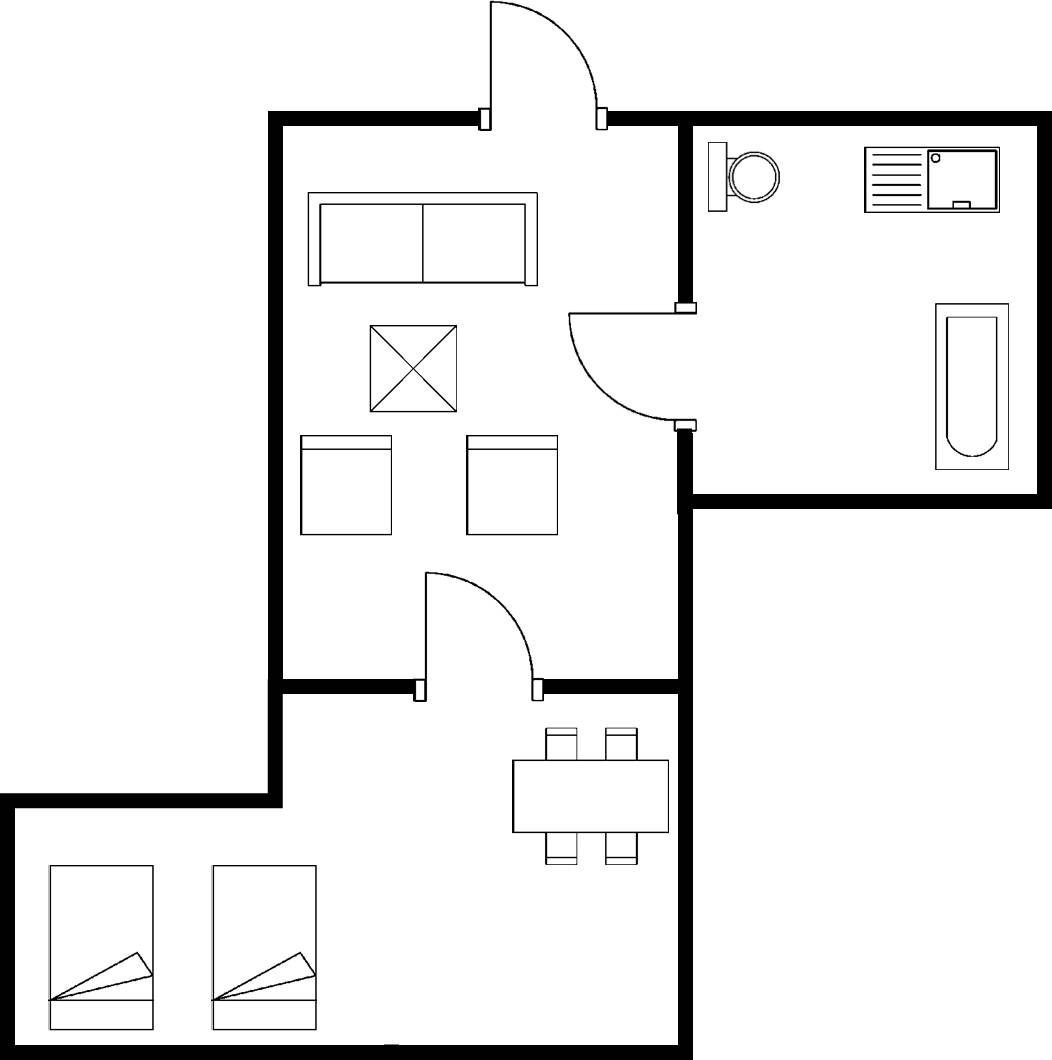bed: (38, 857, 160, 1038), (203, 858, 326, 1037)
coffee_table: (361, 319, 467, 419)
dining_table: (504, 719, 675, 873)
large_sink: (702, 135, 788, 224)
large_sofa: (301, 186, 549, 294)
sink: (853, 138, 1005, 222)
small_sofa: (294, 428, 400, 544), (460, 428, 563, 542)
tub: (926, 296, 1016, 479)
